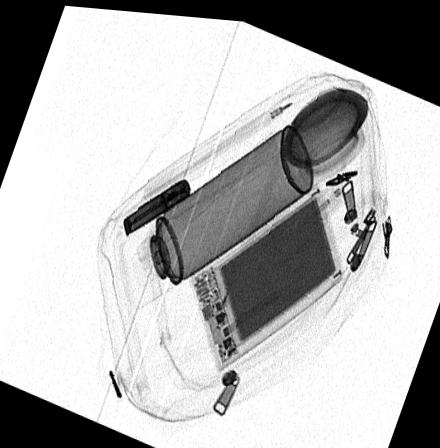Lighter: (121, 173, 192, 233)
Powerbank: (191, 175, 343, 368)
Sprayer: (118, 119, 313, 305)
